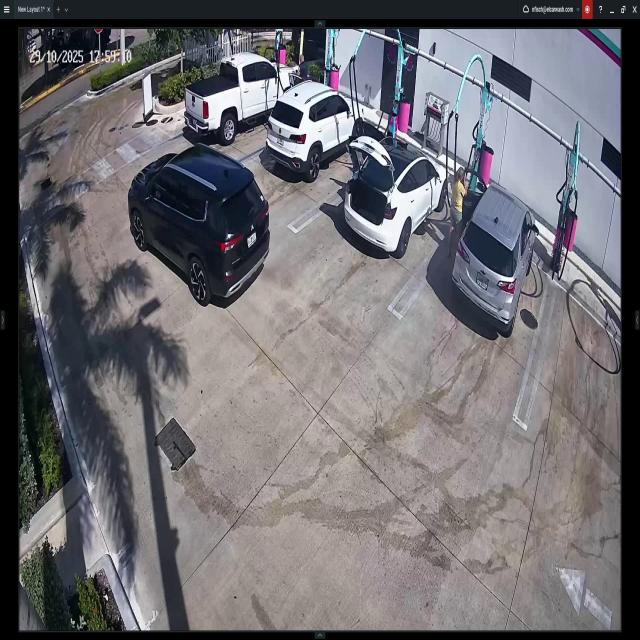Car: (128, 133, 268, 299), (342, 141, 446, 254), (189, 52, 291, 150), (458, 195, 528, 334), (267, 82, 356, 175)
